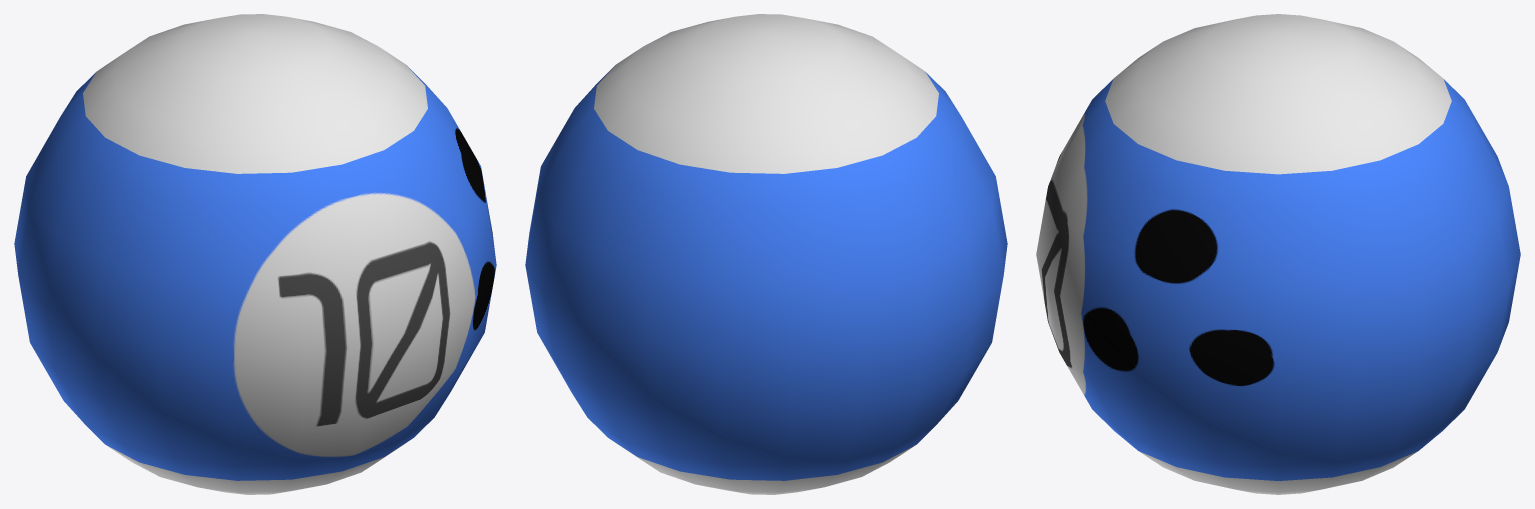
The model's file is qiu_03_03.FBX.
3 renders of one model, left to right at view 1: azimuth 30°, elevation 25°; view 2: azimuth 150°, elevation 25°; view 3: azimuth 270°, elevation 25°, orthographic.
Parts seen in each view (by area): view 1: qiu_03_03; view 2: qiu_03_03; view 3: qiu_03_03.
Boxes of the visible parts, left/top/right/bottom form: qiu_03_03: left=14, top=14, right=496, bottom=494; qiu_03_03: left=525, top=14, right=1007, bottom=494; qiu_03_03: left=1036, top=14, right=1520, bottom=494.
Bounding box in the file's own units: 592 × 592 × 592.
Materials: 1 (1 with a texture image).
